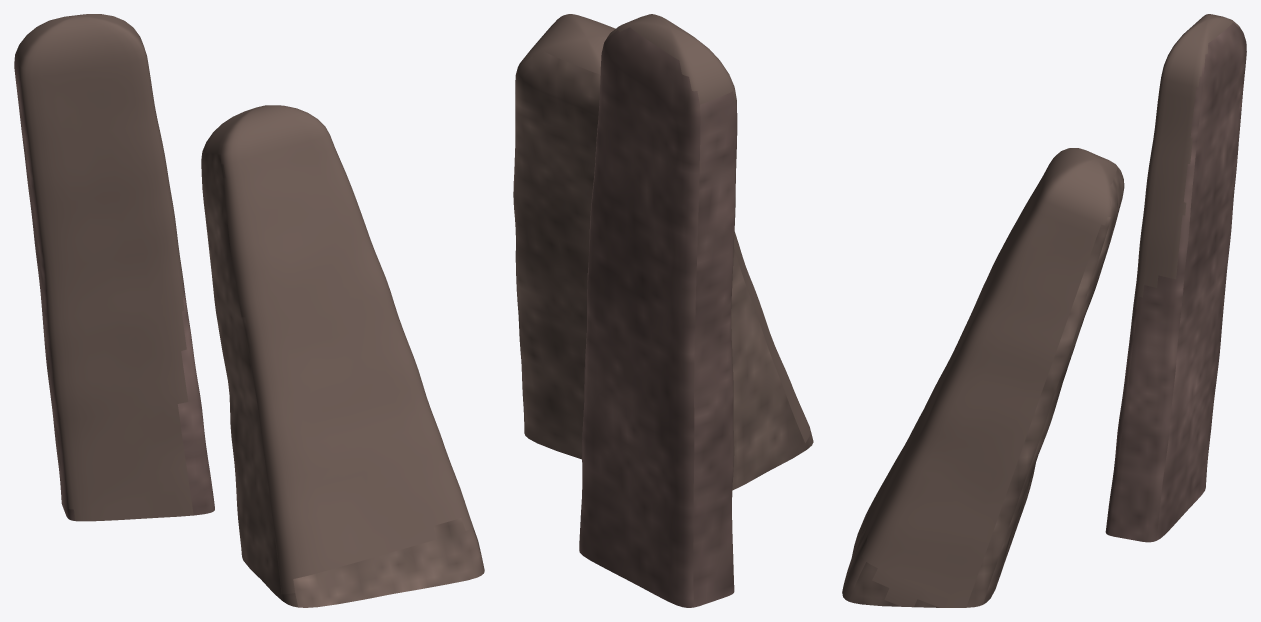
Rendered from TarHenge08.glb.
The picture shows the model from 3 angles, left to right: view 1: azimuth 30°, elevation 25°; view 2: azimuth 150°, elevation 25°; view 3: azimuth 270°, elevation 25°; orthographic projection. The views are drawn at different scales.
Visible parts, largest first — view 1: TarHenge08; view 2: TarHenge08; view 3: TarHenge08.
Boxes of the visible parts, x1=… form: TarHenge08: x1=14, y1=14, x2=484, y2=607; TarHenge08: x1=513, y1=14, x2=813, y2=607; TarHenge08: x1=842, y1=14, x2=1246, y2=607.
Bounding box in the file's own units: 2.44 × 3.79 × 2.94.
Materials: 2 (1 with a texture image).
